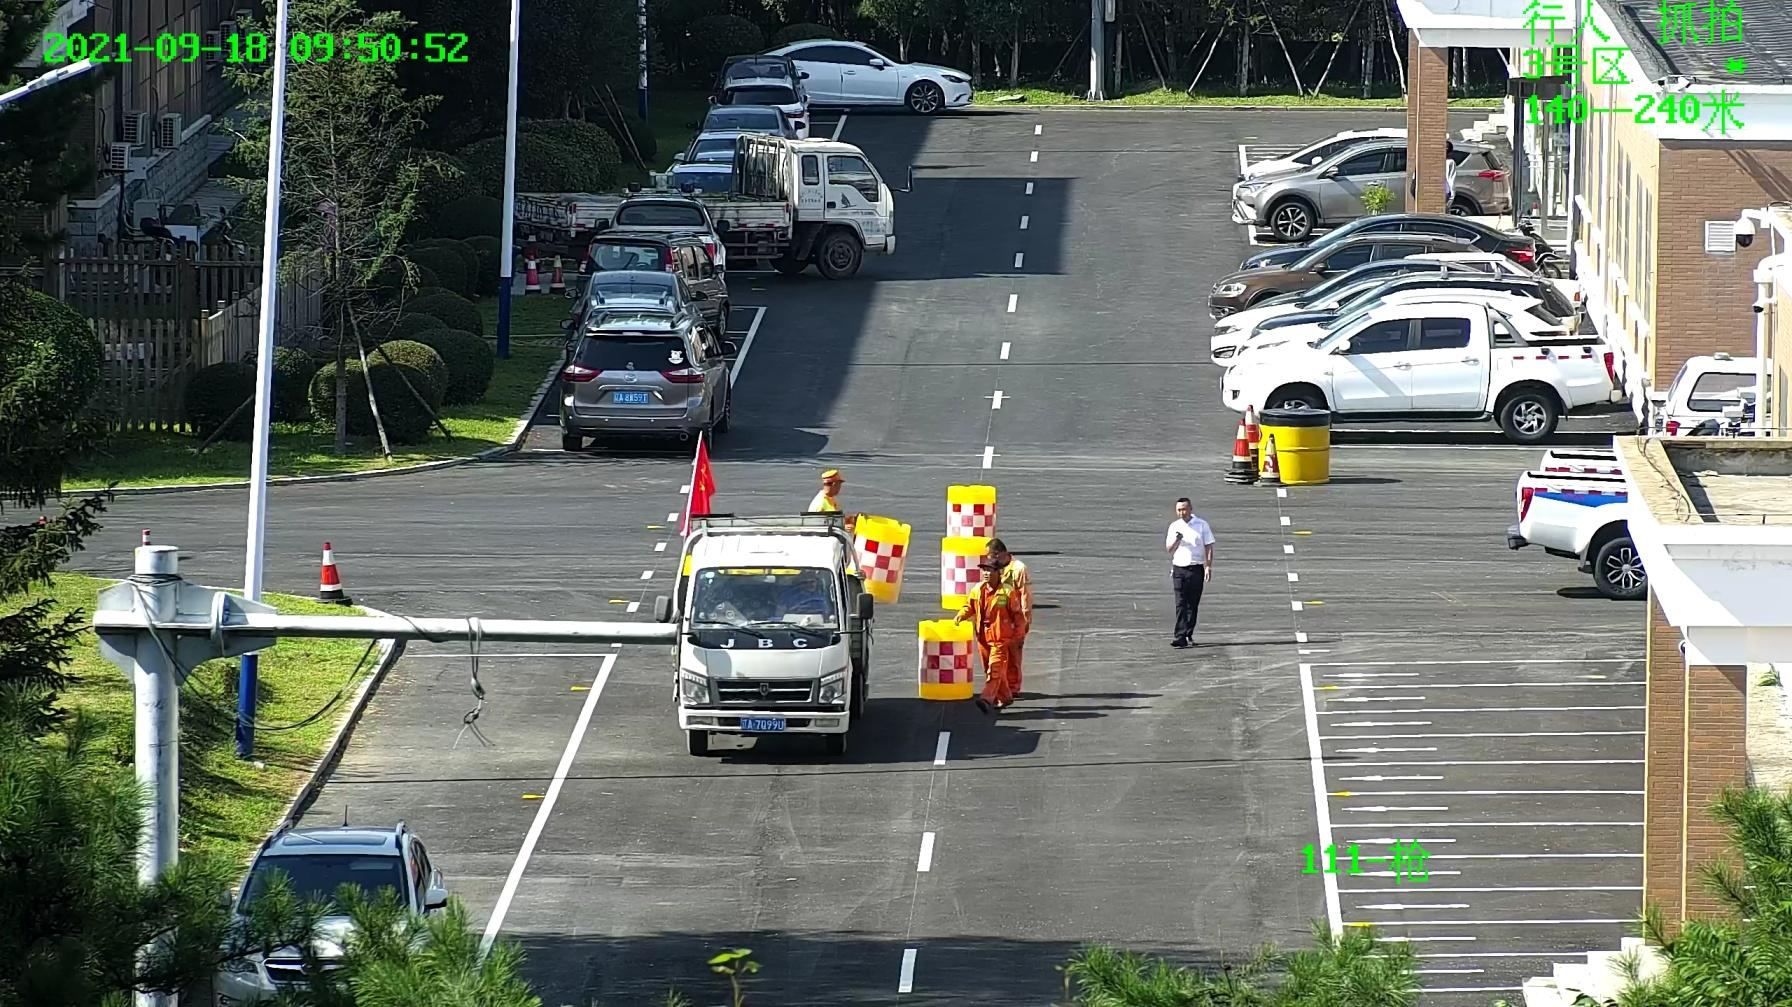cone_barrel: (847, 518, 910, 606), (916, 623, 974, 702), (942, 536, 994, 608), (942, 483, 997, 536)
